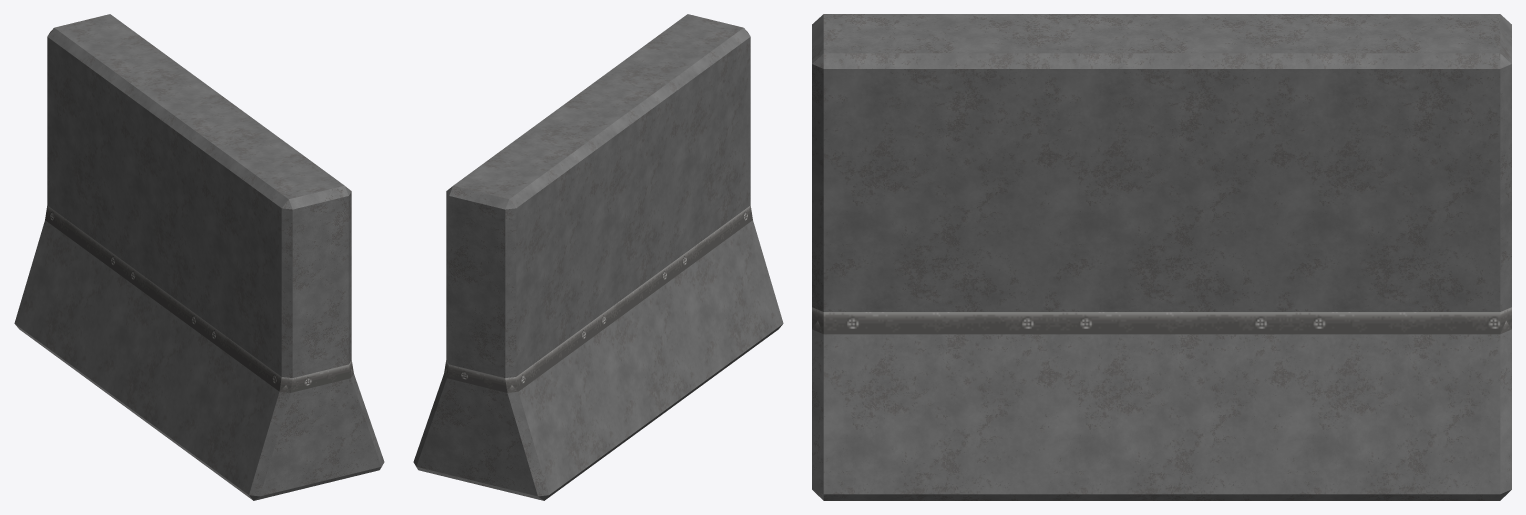
File: concrete_barrier.obj
3 views of the same model, side by side, from view 1: azimuth 30°, elevation 25°; view 2: azimuth 150°, elevation 25°; view 3: azimuth 270°, elevation 25° (orthographic). The views are drawn at different scales.
Parts seen in each view (by area): view 1: concrete_barrier; view 2: concrete_barrier; view 3: concrete_barrier.
Part boxes in pixels (<box>): concrete_barrier: <box>14,14,384,500</box>; concrete_barrier: <box>413,14,783,500</box>; concrete_barrier: <box>812,14,1511,500</box>.
Bounding box in the file's own units: 0.9684 × 2 × 3.
